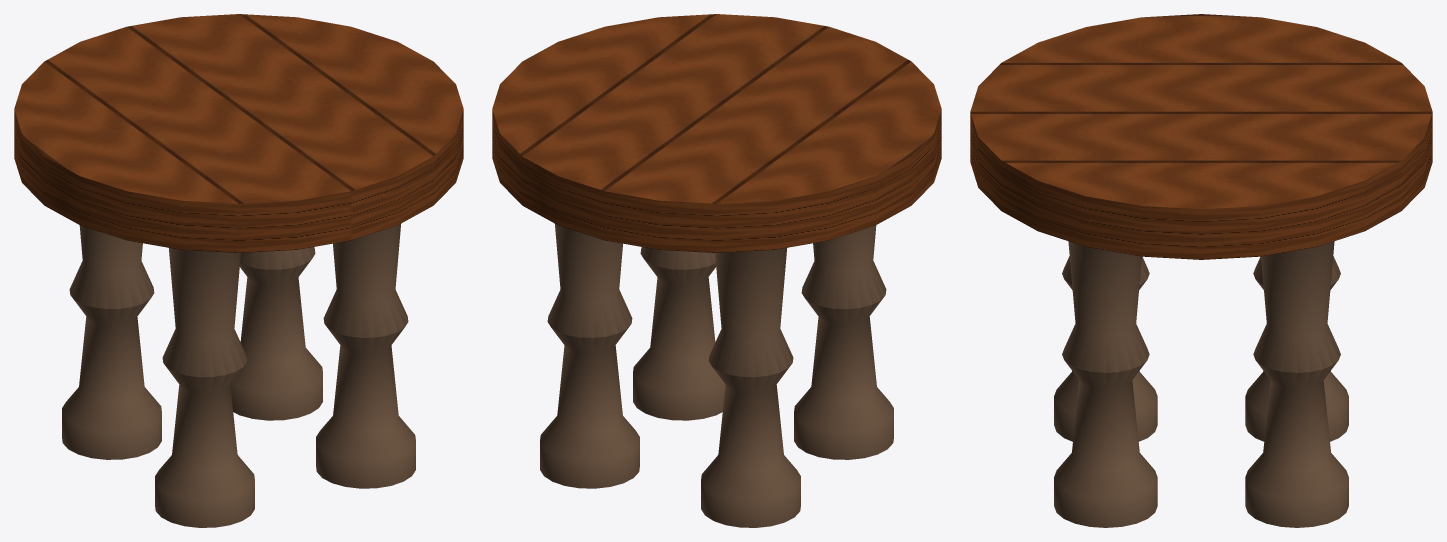
The model's file is adventurers-tavern-and-guild-hall-stool-40d25208__24692.glb.
The picture shows the model from 3 angles, left to right: view 1: azimuth 30°, elevation 25°; view 2: azimuth 150°, elevation 25°; view 3: azimuth 270°, elevation 25°; orthographic projection. The views are drawn at different scales.
Parts seen in each view (by area): view 1: stool; view 2: stool; view 3: stool.
Part boxes in pixels (x1,y1,x2,y2): stool: (14,14,463,527); stool: (492,14,941,527); stool: (970,14,1432,527).
Size of the model in its own units: 0.58 by 0.49 by 0.58.
2 materials, 1 textured.
